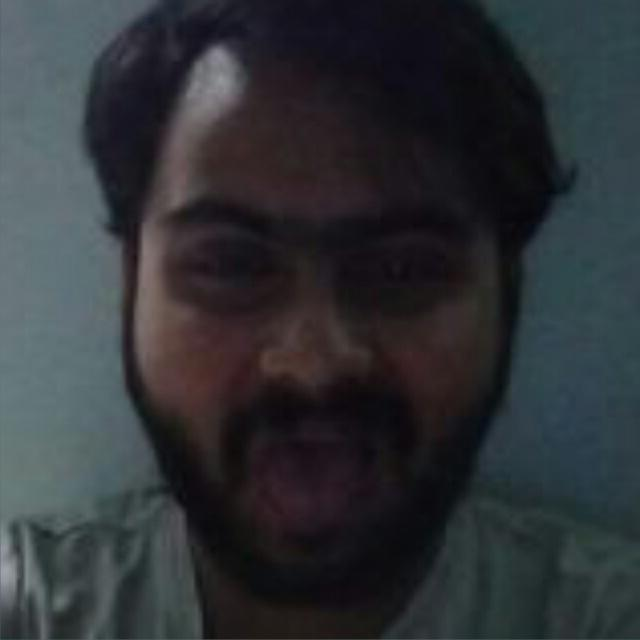Disgust: (79, 23, 556, 585)
